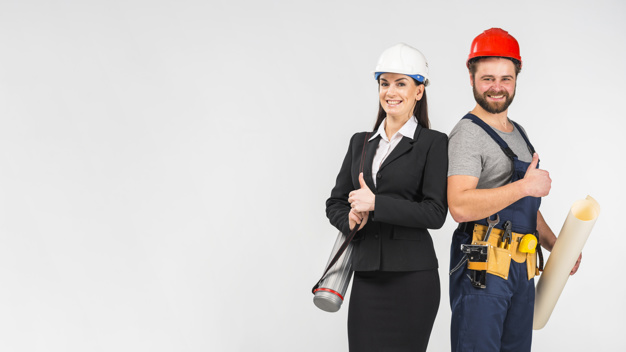thumbsup: (529, 152, 552, 197), (347, 171, 369, 212)
